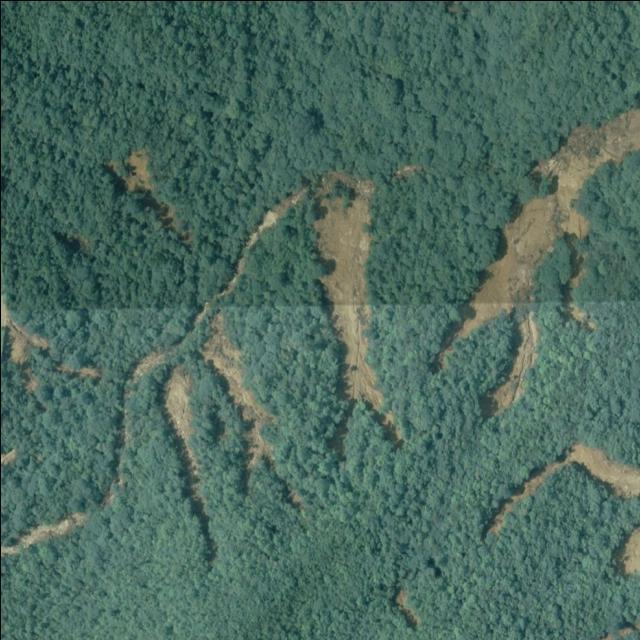landslide: (451, 107, 640, 339), (313, 171, 381, 412), (489, 443, 640, 533), (200, 312, 271, 467), (219, 190, 302, 295), (490, 310, 538, 415), (163, 368, 196, 478), (123, 147, 151, 191), (622, 527, 640, 574)
